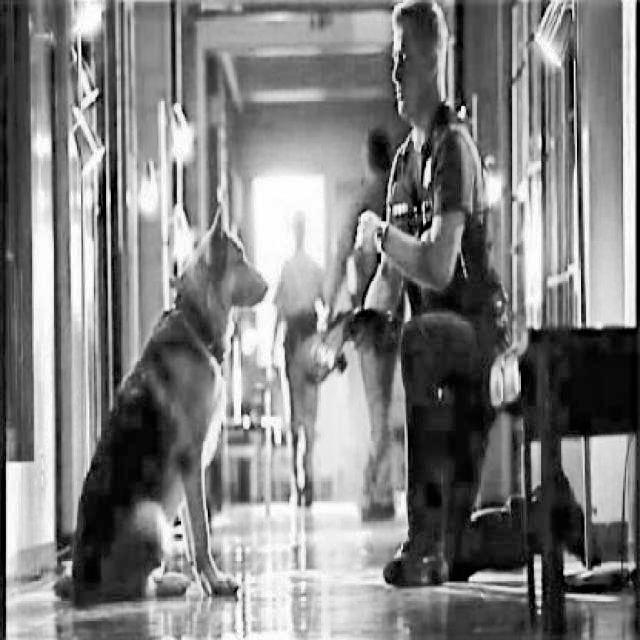Dog: (51, 196, 271, 622)
Person: (346, 0, 524, 594)
